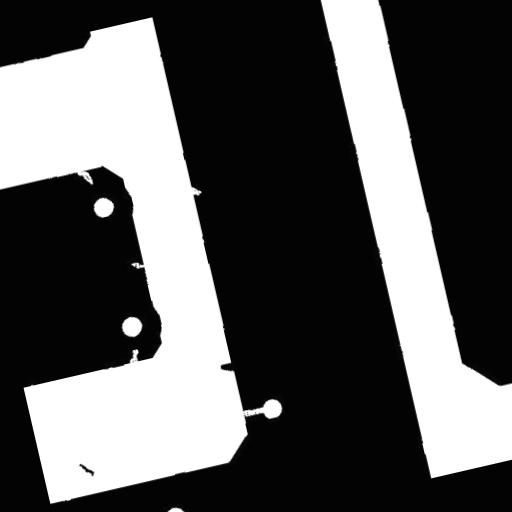copper: (70, 452, 102, 487)
mousebite: (68, 159, 102, 196), (118, 340, 150, 374), (178, 175, 210, 206), (122, 252, 154, 278)
open: (226, 394, 280, 428)
spur: (211, 352, 248, 383)
